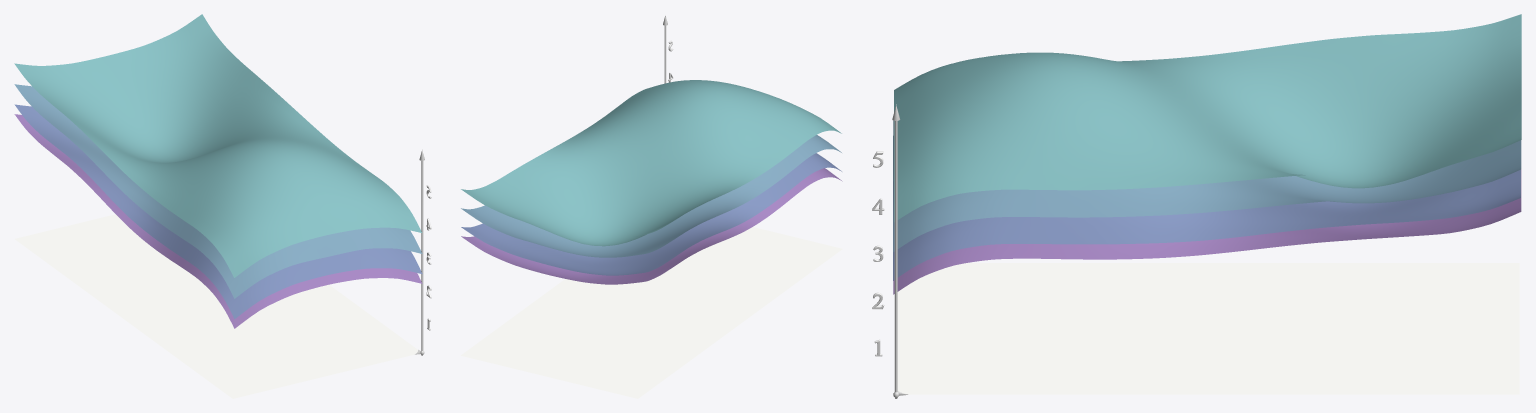
The model's file is dengyamian.gltf.
3 renders of one model, left to right at view 1: azimuth 30°, elevation 25°; view 2: azimuth 150°, elevation 25°; view 3: azimuth 270°, elevation 25°, orthographic. The views are drawn at different scales.
Visible parts, largest first — view 1: nurbsToPoly1, nurbsToPoly2, nurbsToPoly3, nurbsToPoly4, arr; view 2: nurbsToPoly1, nurbsToPoly3, nurbsToPoly2, nurbsToPoly4; view 3: nurbsToPoly1, nurbsToPoly3, nurbsToPoly2, nurbsToPoly4, arr, number.
Part boxes in pixels (x1=…): nurbsToPoly1: x1=14, y1=14, x2=421, y2=277; nurbsToPoly2: x1=14, y1=84, x2=422, y2=298; nurbsToPoly3: x1=14, y1=104, x2=422, y2=319; nurbsToPoly4: x1=14, y1=114, x2=422, y2=328; arr: x1=419, y1=149, x2=424, y2=350; nurbsToPoly1: x1=461, y1=80, x2=841, y2=246; nurbsToPoly3: x1=461, y1=153, x2=841, y2=275; nurbsToPoly2: x1=461, y1=135, x2=841, y2=257; nurbsToPoly4: x1=461, y1=168, x2=842, y2=284; nurbsToPoly1: x1=894, y1=14, x2=1521, y2=222; nurbsToPoly3: x1=893, y1=169, x2=1520, y2=280; nurbsToPoly2: x1=893, y1=120, x2=1521, y2=251; nurbsToPoly4: x1=893, y1=169, x2=1521, y2=294; arr: x1=892, y1=104, x2=900, y2=392; number: x1=872, y1=151, x2=884, y2=356.
Size of the model in its own units: 50.64 by 52.22 by 104.
1 material, 1 textured.
